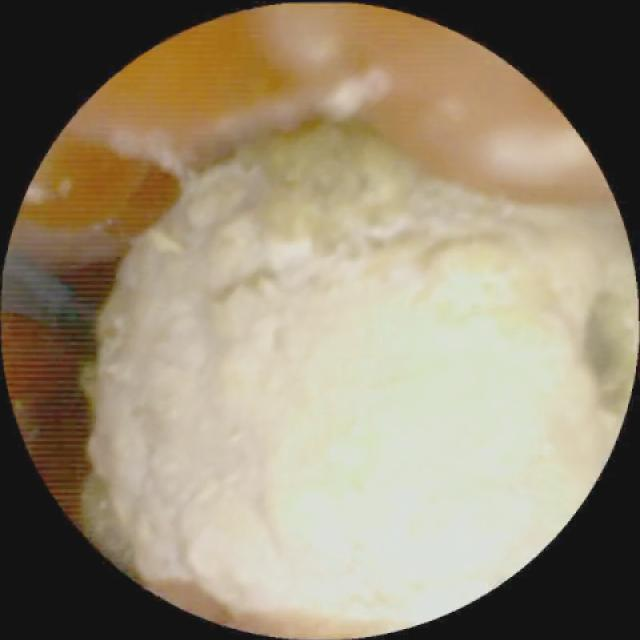stone: (82, 124, 629, 626)
